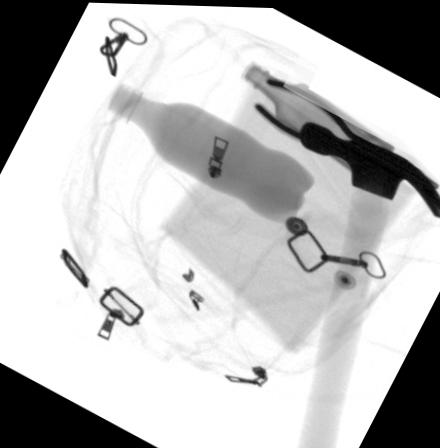Hammer: (297, 117, 440, 448)
Pliers: (253, 74, 374, 163)
